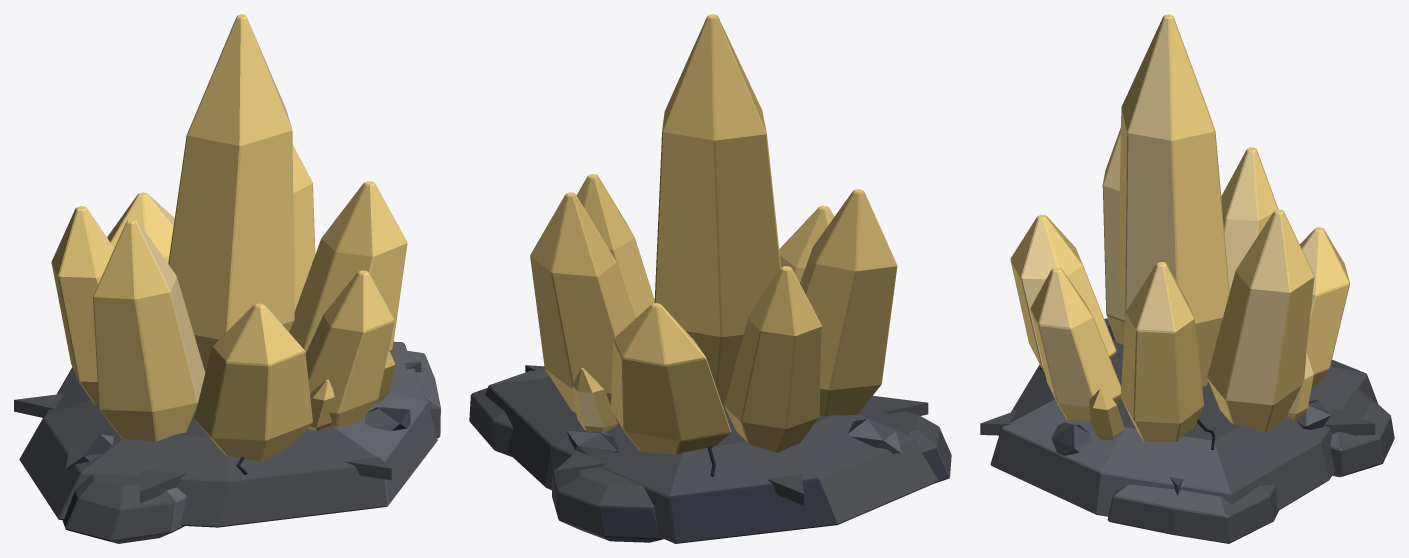
Rendered from BH_ORE_O24_Coracao_do_Horizonte_V02.glb.
3 views of the same model, side by side, from view 1: azimuth 30°, elevation 25°; view 2: azimuth 150°, elevation 25°; view 3: azimuth 270°, elevation 25° (orthographic). The views are drawn at different scales.
Visible parts, largest first — view 1: Bedrock | primary.003, Hero prism.003, O24 | shard 6.003, O24 | shard 7.003, O24 | shard 2.003, O24 | shard 1.003, O24 | shard 5.003, Bedrock | shoulder 1.003, O24 | shard 3.003, O24 | shard 4.003, Bedrock | shoulder 2.003, O24 | V02 embedded stone ledge.003 (+5 smaller); view 2: Bedrock | primary.003, Hero prism.003, O24 | shard 6.003, O24 | shard 3.003, O24 | shard 4.003, O24 | shard 5.003, Bedrock | shoulder 3.003, O24 | shard 2.003, O24 | V02 secondary crystal 1.001, Bedrock | shoulder 1.003, O24 | shard 7.003, Bedrock | shoulder 2.003 (+5 smaller); view 3: Bedrock | primary.003, Hero prism.003, O24 | shard 3.003, O24 | shard 2.003, O24 | shard 1.003, Bedrock | shoulder 2.003, O24 | shard 7.003, O24 | shard 4.003, O24 | shard 5.003, Bedrock | shoulder 3.003, O24 | shard 6.003, O24 | V02 secondary crystal 3.001 (+4 smaller).
Boxes of the visible parts, x1,y1,x2,y2 form: Bedrock | primary.003: (19, 341, 437, 527); Hero prism.003: (168, 14, 294, 372); O24 | shard 6.003: (93, 218, 205, 441); O24 | shard 7.003: (194, 303, 312, 461); O24 | shard 2.003: (289, 181, 407, 353); O24 | shard 1.003: (305, 270, 394, 426); O24 | shard 5.003: (51, 206, 114, 404); Bedrock | shoulder 1.003: (62, 474, 186, 543); O24 | shard 3.003: (292, 145, 315, 311); O24 | shard 4.003: (107, 192, 174, 263); Bedrock | shoulder 2.003: (407, 351, 440, 438); O24 | V02 embedded stone ledge.003: (65, 433, 113, 469); Bedrock | primary.003: (485, 368, 938, 543); Hero prism.003: (654, 14, 780, 405); O24 | shard 6.003: (800, 189, 897, 415); O24 | shard 3.003: (530, 192, 635, 419); O24 | shard 4.003: (611, 303, 730, 454); O24 | shard 5.003: (724, 266, 821, 452); Bedrock | shoulder 3.003: (552, 467, 663, 542); O24 | shard 2.003: (576, 174, 654, 318); O24 | V02 secondary crystal 1.001: (572, 368, 617, 432); Bedrock | shoulder 1.003: (890, 411, 951, 482); O24 | shard 7.003: (779, 205, 834, 282); Bedrock | shoulder 2.003: (469, 388, 513, 456); Bedrock | primary.003: (990, 325, 1378, 516); Hero prism.003: (1118, 14, 1229, 386); O24 | shard 3.003: (1207, 209, 1314, 431); O24 | shard 2.003: (1120, 262, 1203, 441); O24 | shard 1.003: (1030, 267, 1121, 420); Bedrock | shoulder 2.003: (1107, 484, 1278, 543); O24 | shard 7.003: (1010, 214, 1116, 371); O24 | shard 4.003: (1300, 227, 1349, 388); O24 | shard 5.003: (1221, 147, 1278, 291); Bedrock | shoulder 3.003: (1330, 389, 1394, 477); O24 | shard 6.003: (1102, 127, 1125, 344); O24 | V02 secondary crystal 3.001: (1089, 389, 1124, 440).
Size of the model in its own units: 3.01 by 3.1 by 2.64.
